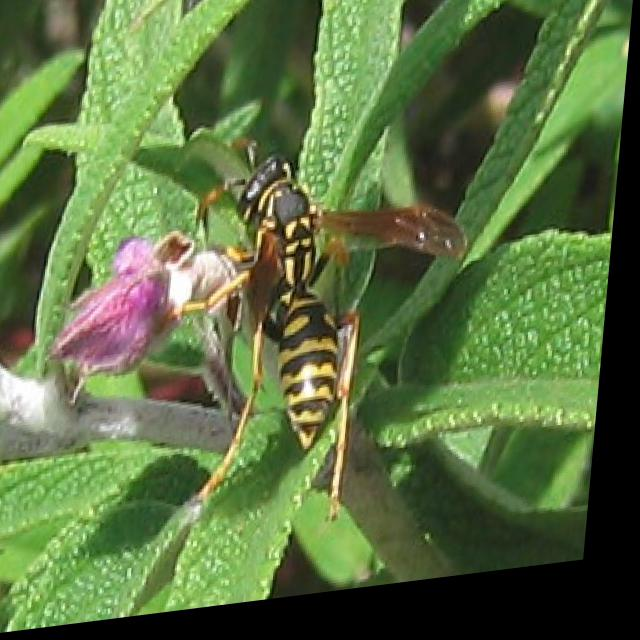Guepe: (176, 112, 480, 544)
